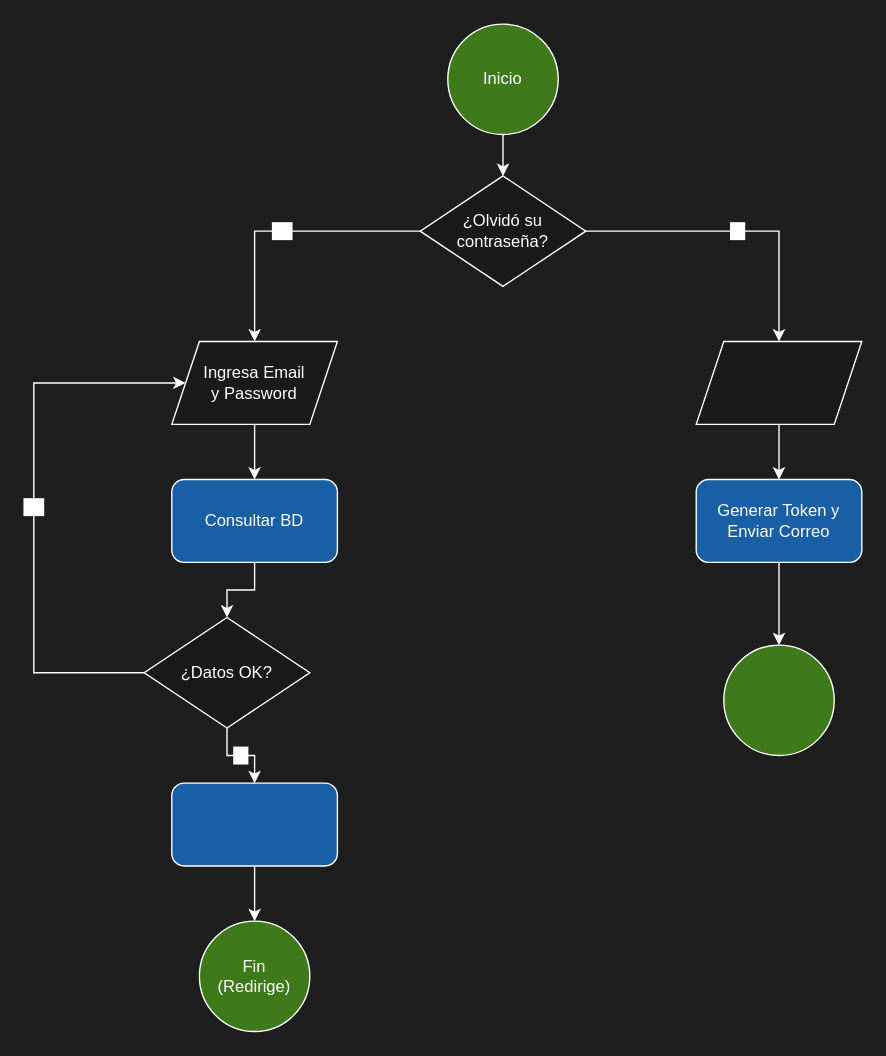
The diagram is 886 pixels wide and 1056 high, and some of its shapes have lost their labels. The centre of each missing label's shape, as x and y in pixels:
Fin: point (778, 700)
Generar JWT / Sesión: point (253, 824)
Ingresa Email: point (778, 382)
